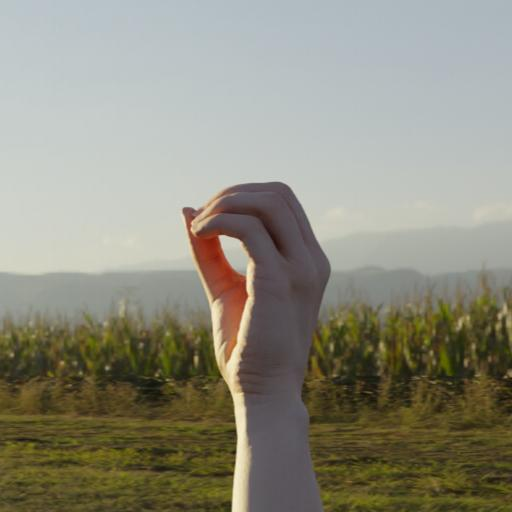O: (169, 170, 343, 512)
